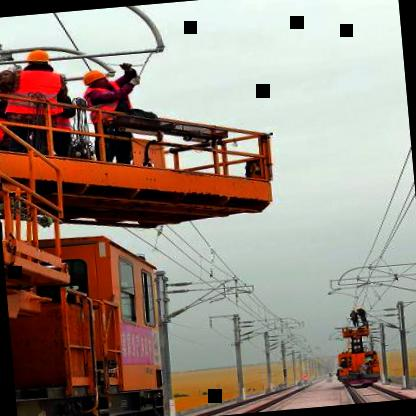helmet: (18, 48, 56, 76), (74, 67, 114, 92)
